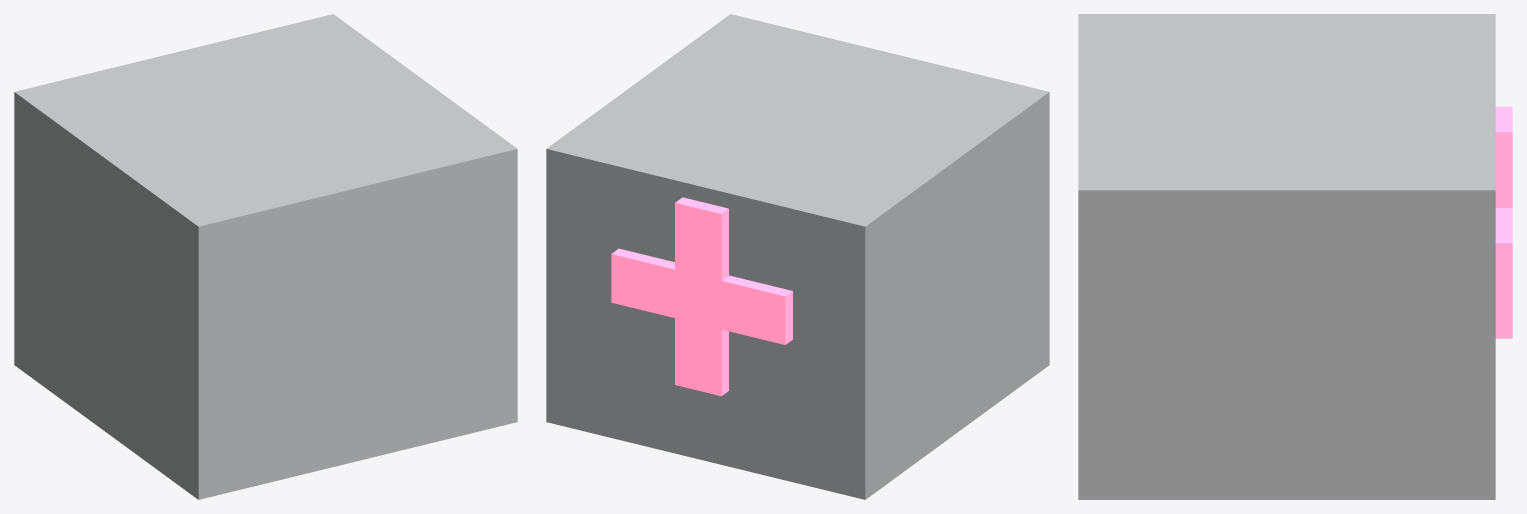
The model's file is bldg_hosp.glb.
3 renders of one model, left to right at view 1: azimuth 30°, elevation 25°; view 2: azimuth 150°, elevation 25°; view 3: azimuth 270°, elevation 25°, orthographic. The views are drawn at different scales.
Visible parts, largest first — view 1: Body; view 2: Body, CrossH, CrossV; view 3: Body, CrossV, CrossH.
Boxes of the visible parts, left/top/right/bottom form: Body: left=14, top=14, right=517, bottom=499; Body: left=546, top=14, right=1049, bottom=499; CrossH: left=611, top=248, right=792, bottom=344; CrossV: left=675, top=197, right=728, bottom=396; Body: left=1078, top=14, right=1495, bottom=499; CrossV: left=1495, top=106, right=1512, bottom=338; CrossH: left=1495, top=208, right=1512, bottom=298.
Bounding box in the file's own units: 1.1 × 0.9 × 1.15.
